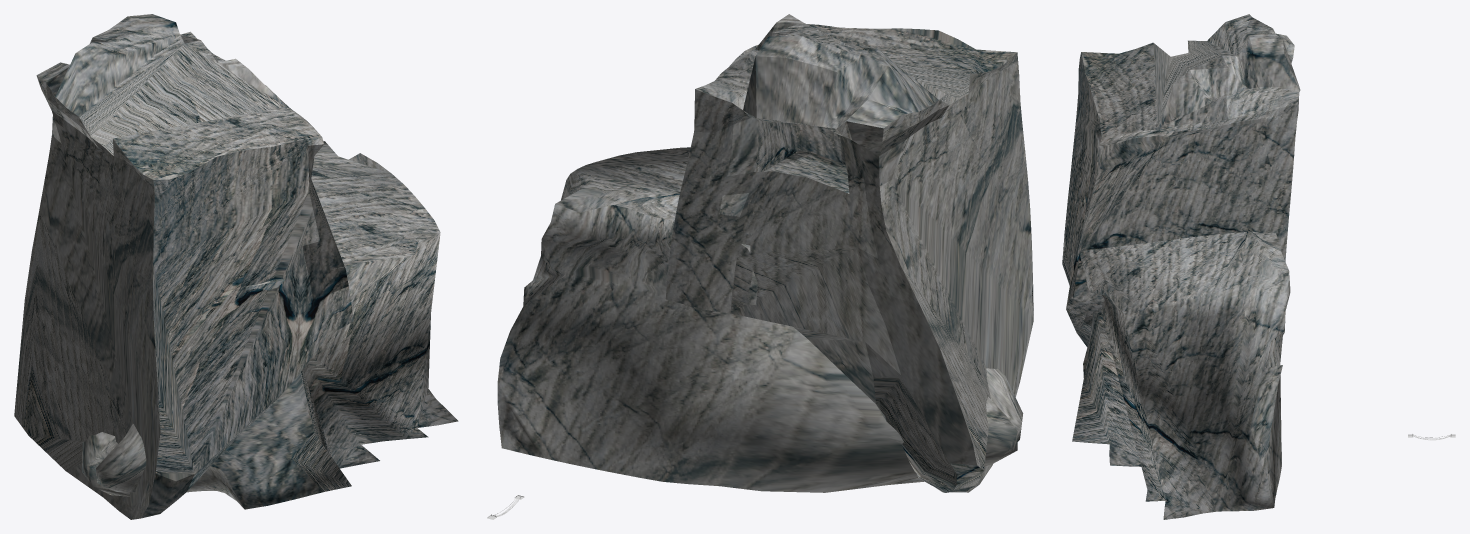
The model's file is Jungle_Sample_Level.glb.
3 views of the same model, side by side, from view 1: azimuth 30°, elevation 25°; view 2: azimuth 150°, elevation 25°; view 3: azimuth 270°, elevation 25° (orthographic). The views are drawn at different scales.
Parts seen in each view (by area): view 1: Mountain Mesh; view 2: Mountain Mesh; view 3: Mountain Mesh.
Boxes of the visible parts, x1=… form: Mountain Mesh: x1=14, y1=14, x2=458, y2=519; Mountain Mesh: x1=497, y1=14, x2=1033, y2=492; Mountain Mesh: x1=1062, y1=14, x2=1300, y2=519.
Size of what is drawn, in the model's own units: 44.92 by 44.89 by 43.11.
2 materials, 2 textured.
